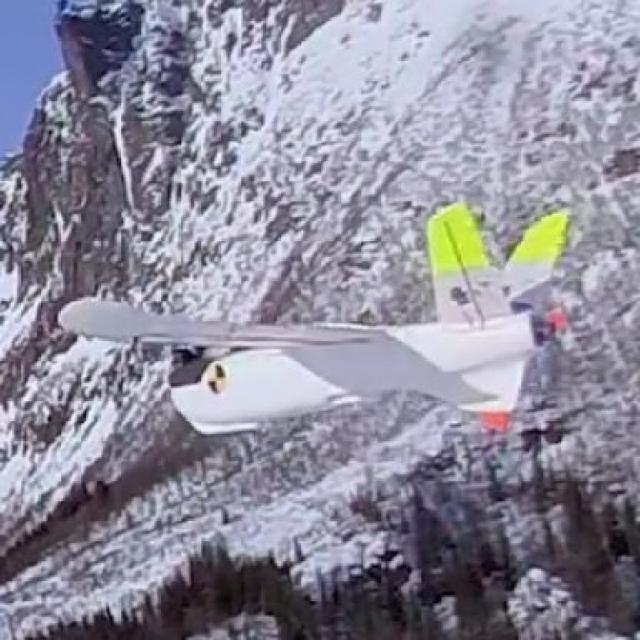iha: (45, 192, 582, 451)
